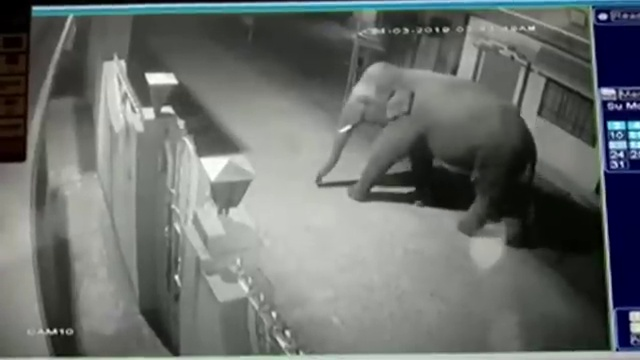Elephant: (315, 62, 538, 249)
